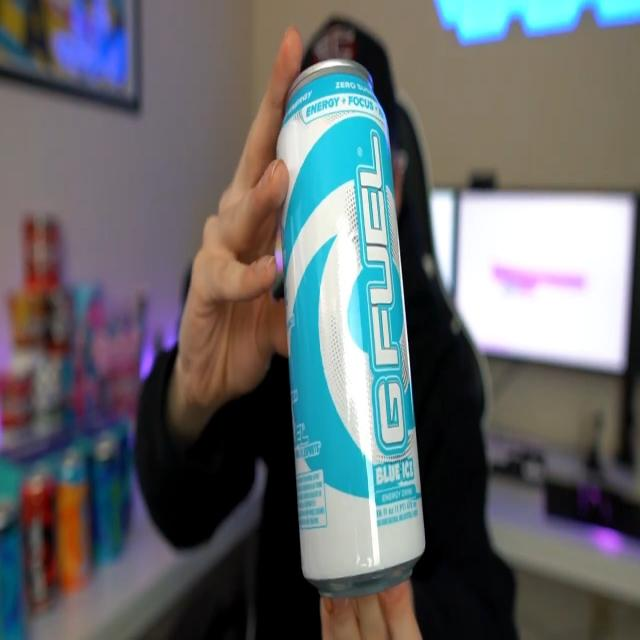can: (276, 55, 428, 600)
